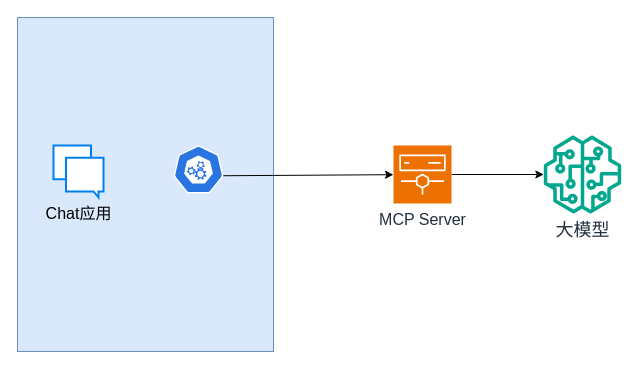
This 639x369 diagram has some shape labels left out. The box of each missing label's shape, as (x1, y1, x2, y2) in pixels:
Host（宿主程序）: (16, 16, 274, 352)
MCP Client: (172, 144, 224, 194)
